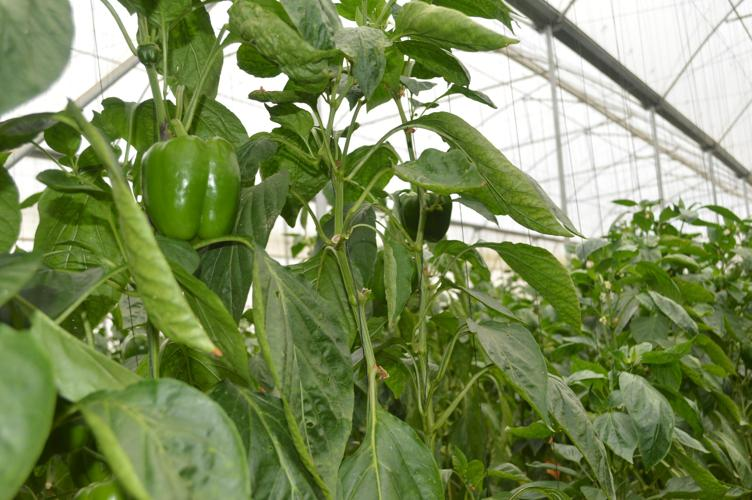BellPepper: (141, 128, 253, 255), (387, 180, 458, 247)
